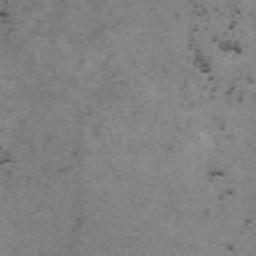Oxide scale of temperature system: (188, 3, 256, 104), (206, 169, 236, 202), (70, 215, 86, 248), (0, 145, 17, 175), (0, 9, 13, 26), (241, 216, 253, 229), (225, 243, 237, 252), (220, 122, 228, 133), (70, 148, 79, 157), (42, 134, 52, 142)
